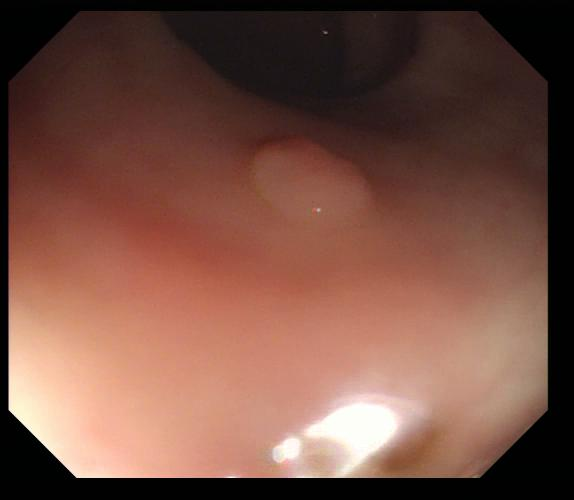polyp: (252, 138, 375, 236)
